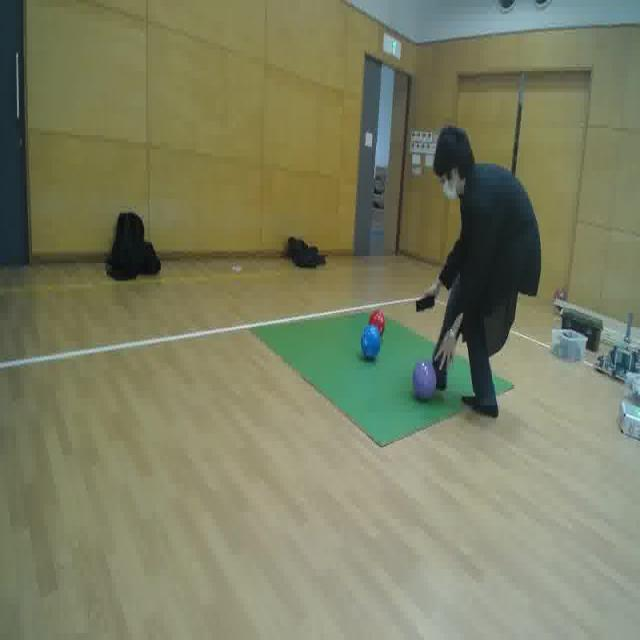blue_ball: (361, 326, 381, 361)
purple_ball: (414, 360, 436, 402)
red_ball: (370, 311, 384, 334)
